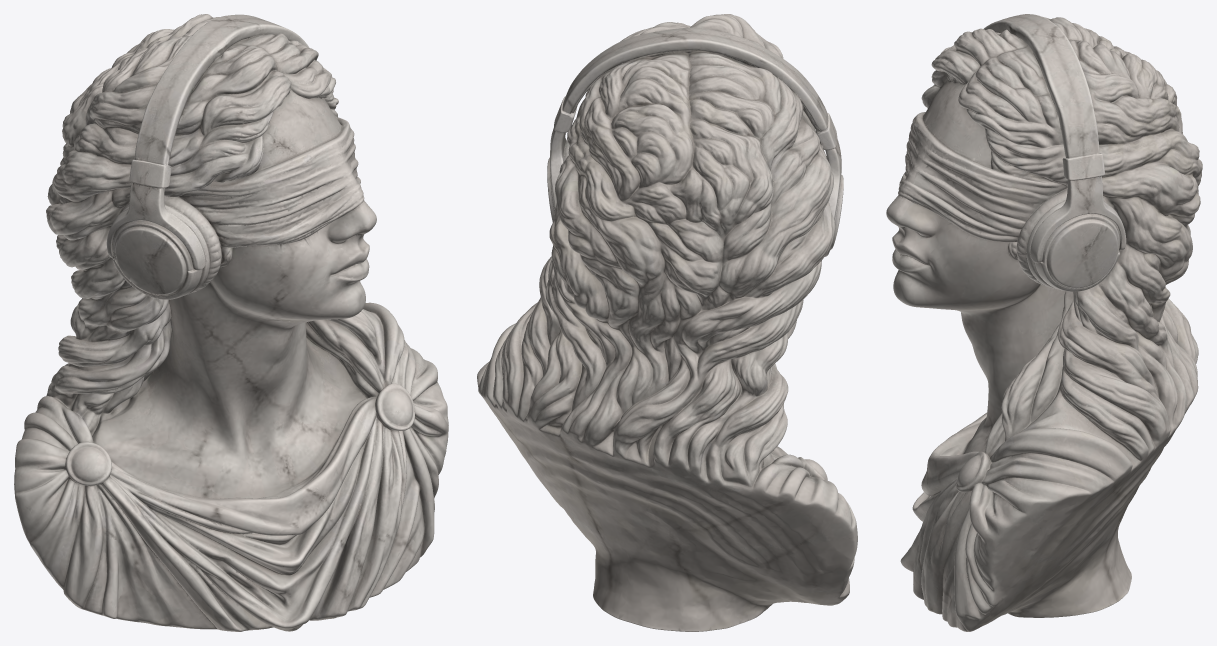
File: podcast.glb
3 renders of one model, left to right at view 1: azimuth 30°, elevation 25°; view 2: azimuth 150°, elevation 25°; view 3: azimuth 270°, elevation 25°, orthographic. The views are drawn at different scales.
Bounding box in the file's own units: 1.38 × 1.9 × 0.9902.
1 material, 1 textured.
